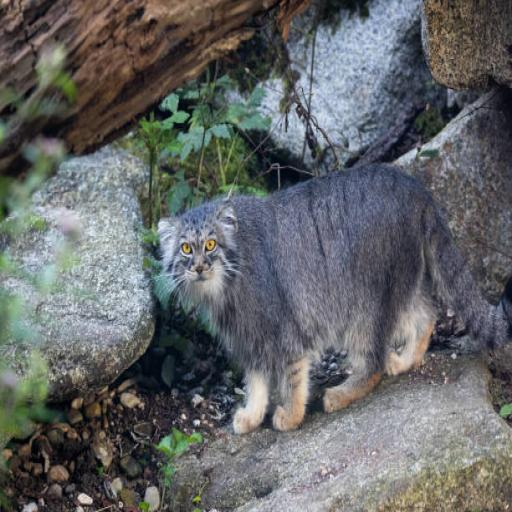manul: (159, 163, 511, 433)
